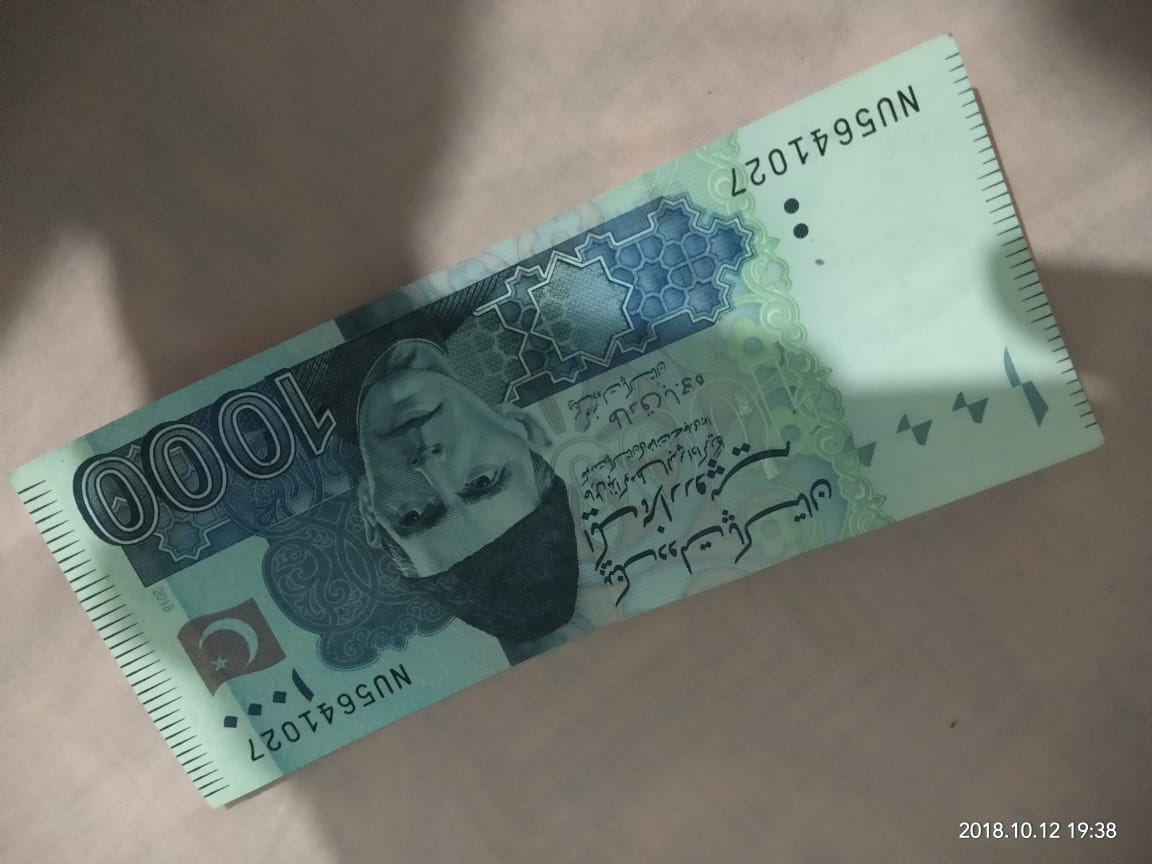1000 rupee: (8, 29, 1082, 809)
